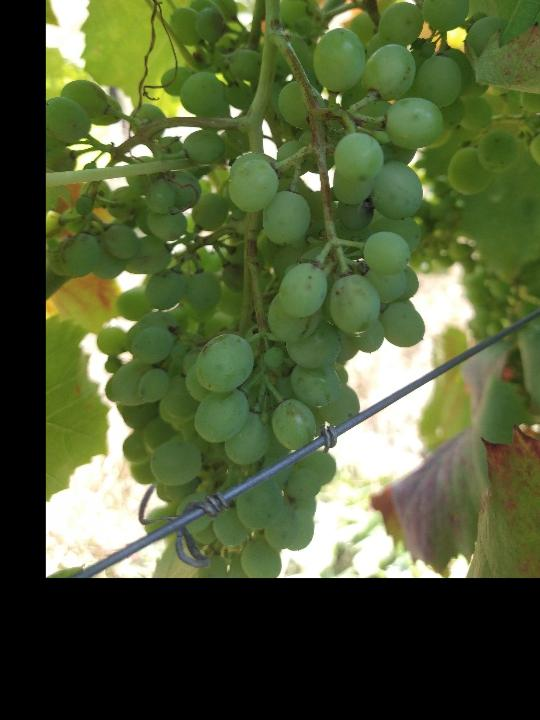grape: (52, 0, 521, 575)
